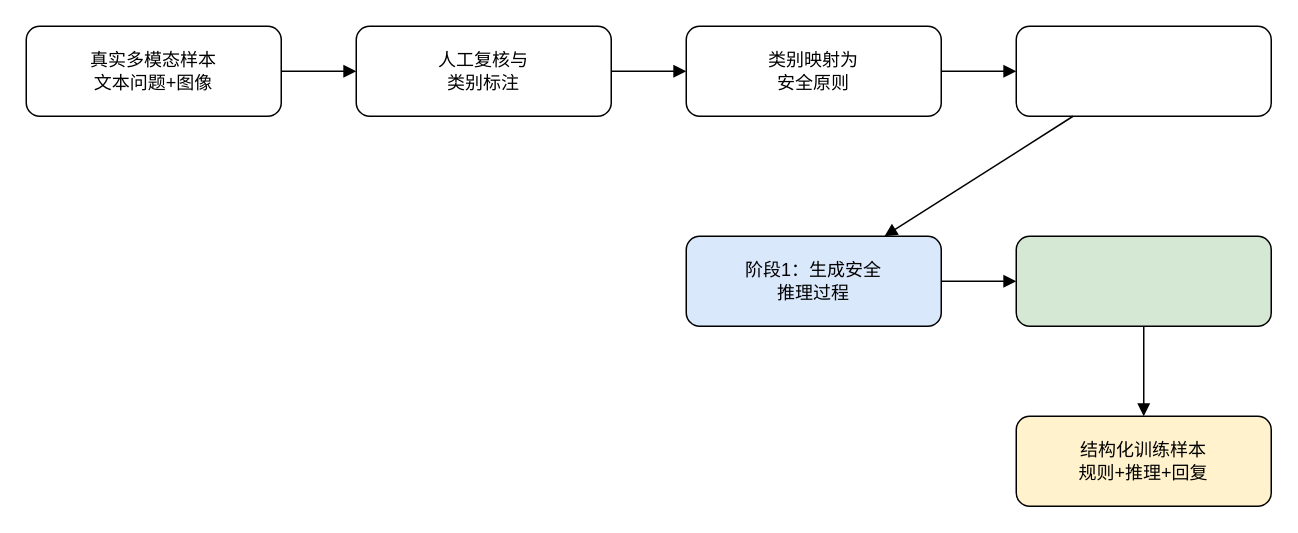
The diagram is 1298 pixels wide and 533 high, and some of its shapes have lost their labels. The shapes that lost their labels are listed below. From the top down, each one's centre as x and y in pixels, then its label:
(1143,70): 结合具体问题 生成实例规则
(1143,280): 阶段2：生成 最终回复
